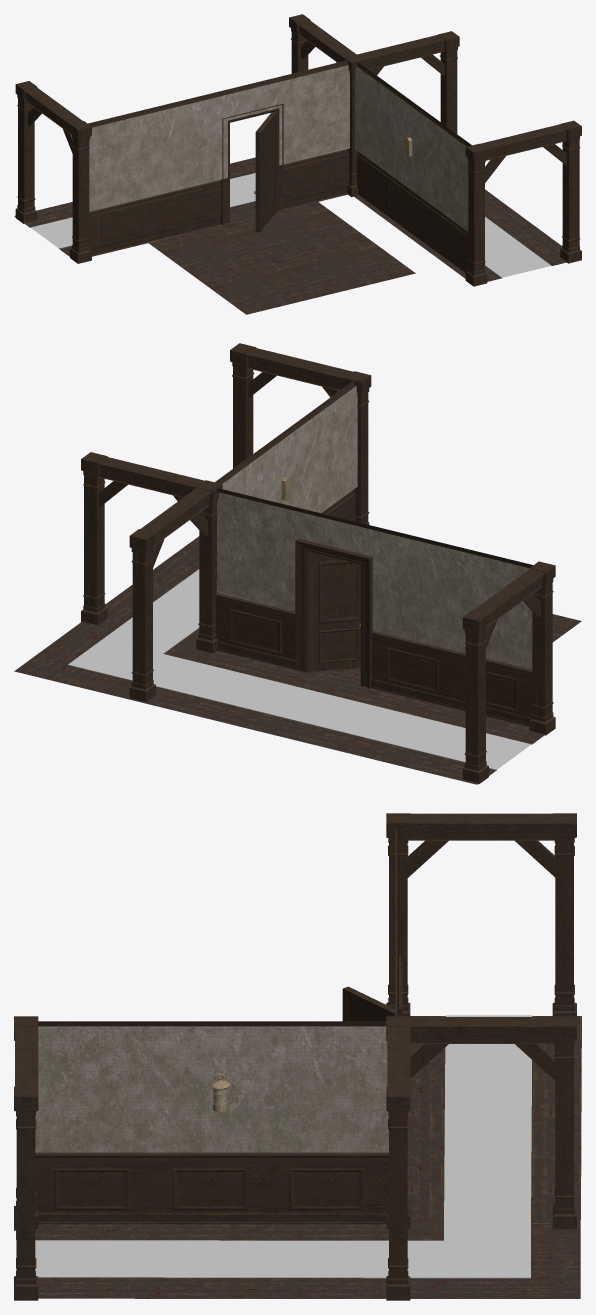
The model's file is EnvWylam.fbx.
3 renders of one model, top to bottom at view 1: azimuth 30°, elevation 25°; view 2: azimuth 150°, elevation 25°; view 3: azimuth 270°, elevation 25°, orthographic. The views are drawn at different scales.
Visible parts, largest first — view 1: pPlane4, pPlane6, pPlane2, pPlane1, pPlane3, pCube28, pCube19, pCube23, pCube33, pCube24, pCube3, pCube21 (+12 smaller); view 2: pPlane4, pPlane3, pPlane2, pPlane5, pPlane1, pCube32, pCube24, pCube15, pCube3, pCube28, pCube4, pCube36 (+12 smaller); view 3: pPlane2, pPlane1, pPlane3, pPlane5, pCube23, pCube3, pCube15, pCube24, pCube26, pCube13, pCube28, pCube8 (+9 smaller).
Part boxes in pixels (x1=…): pPlane4: x1=88, y1=60, x2=349, y2=255; pPlane6: x1=148, y1=202, x2=415, y2=314; pPlane2: x1=355, y1=62, x2=471, y2=272; pPlane1: x1=353, y1=189, x2=566, y2=281; pPlane3: x1=14, y1=157, x2=348, y2=256; pCube28: x1=70, y1=121, x2=91, y2=263; pCube19: x1=465, y1=143, x2=487, y2=286; pCube23: x1=560, y1=120, x2=581, y2=263; pCube33: x1=255, y1=112, x2=276, y2=232; pCube24: x1=15, y1=81, x2=37, y2=223; pCube3: x1=438, y1=31, x2=459, y2=133; pCube21: x1=480, y1=124, x2=567, y2=160; pPlane4: x1=214, y1=488, x2=533, y2=726; pPlane3: x1=144, y1=650, x2=545, y2=784; pPlane2: x1=215, y1=380, x2=357, y2=521; pPlane5: x1=14, y1=619, x2=211, y2=702; pPlane1: x1=105, y1=536, x2=199, y2=640; pCube32: x1=295, y1=538, x2=372, y2=688; pCube24: x1=462, y1=610, x2=488, y2=783; pCube15: x1=129, y1=529, x2=155, y2=701; pCube3: x1=81, y1=452, x2=107, y2=625; pCube28: x1=529, y1=561, x2=555, y2=735; pCube4: x1=196, y1=480, x2=222, y2=653; pCube36: x1=319, y1=560, x2=359, y2=623; pPlane2: x1=35, y1=1021, x2=388, y2=1224; pPlane1: x1=16, y1=1224, x2=388, y2=1298; pPlane3: x1=407, y1=1015, x2=581, y2=1219; pPlane5: x1=388, y1=1219, x2=580, y2=1298; pCube23: x1=14, y1=1086, x2=38, y2=1300; pCube3: x1=386, y1=1086, x2=410, y2=1300; pCube15: x1=552, y1=1016, x2=576, y2=1229; pCube24: x1=552, y1=813, x2=576, y2=1016; pCube26: x1=408, y1=813, x2=554, y2=840; pCube13: x1=410, y1=1017, x2=554, y2=1043; pCube28: x1=386, y1=813, x2=410, y2=1016; pCube8: x1=54, y1=1168, x2=128, y2=1209.
Size of the model in its own units: 900 by 302 by 762.
